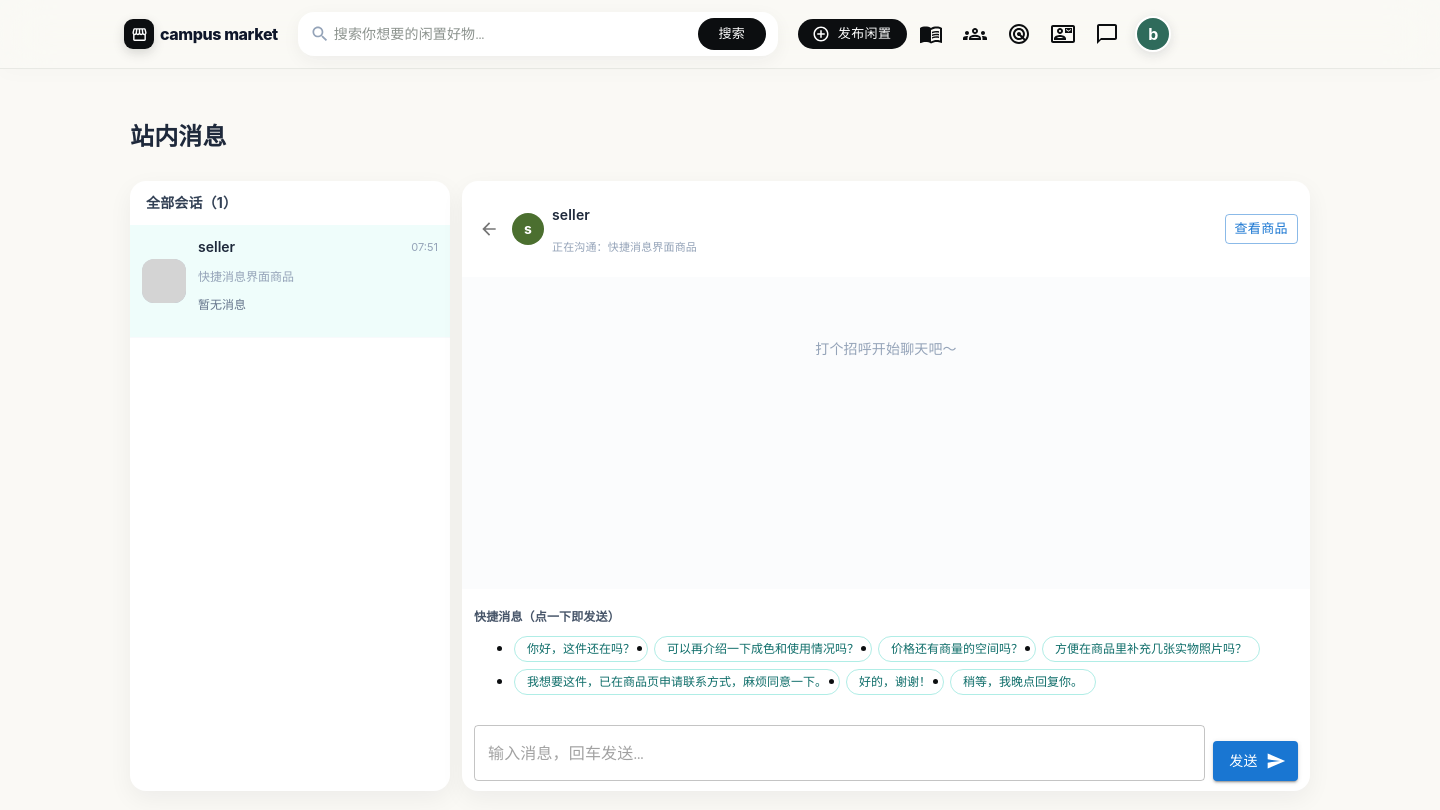
私信快捷消息 › 服务端开放文字时：输入框出现、说明不再显示；文字消息只提交 { content }
The width and height of the screenshot is (1440, 810).
Type "周六下午方便吗？" into the text box labelled "输入消息" at point(840, 753), box [488,742,1191,765]
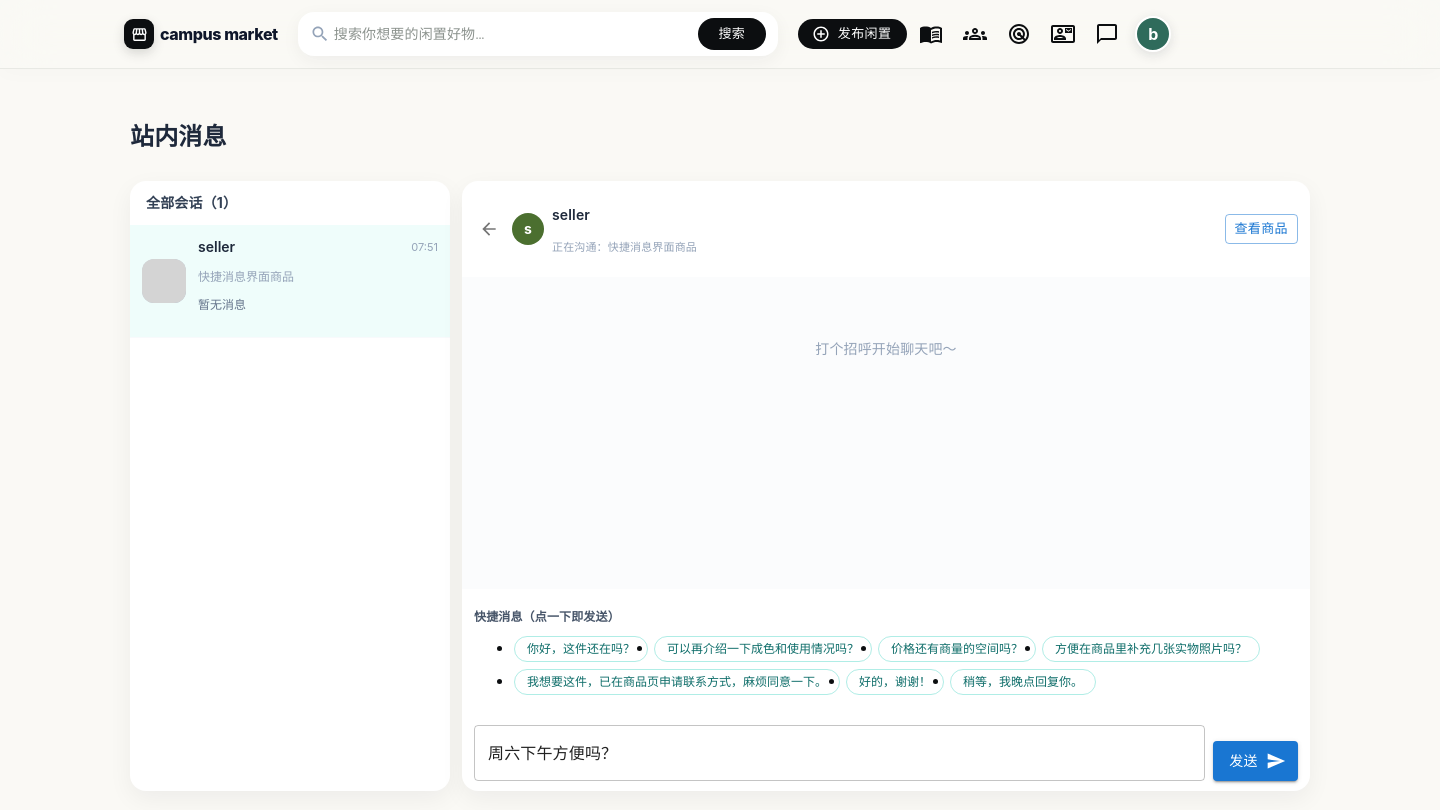
Click the button "发送" at point(1256, 761), box [1213,741,1298,781]
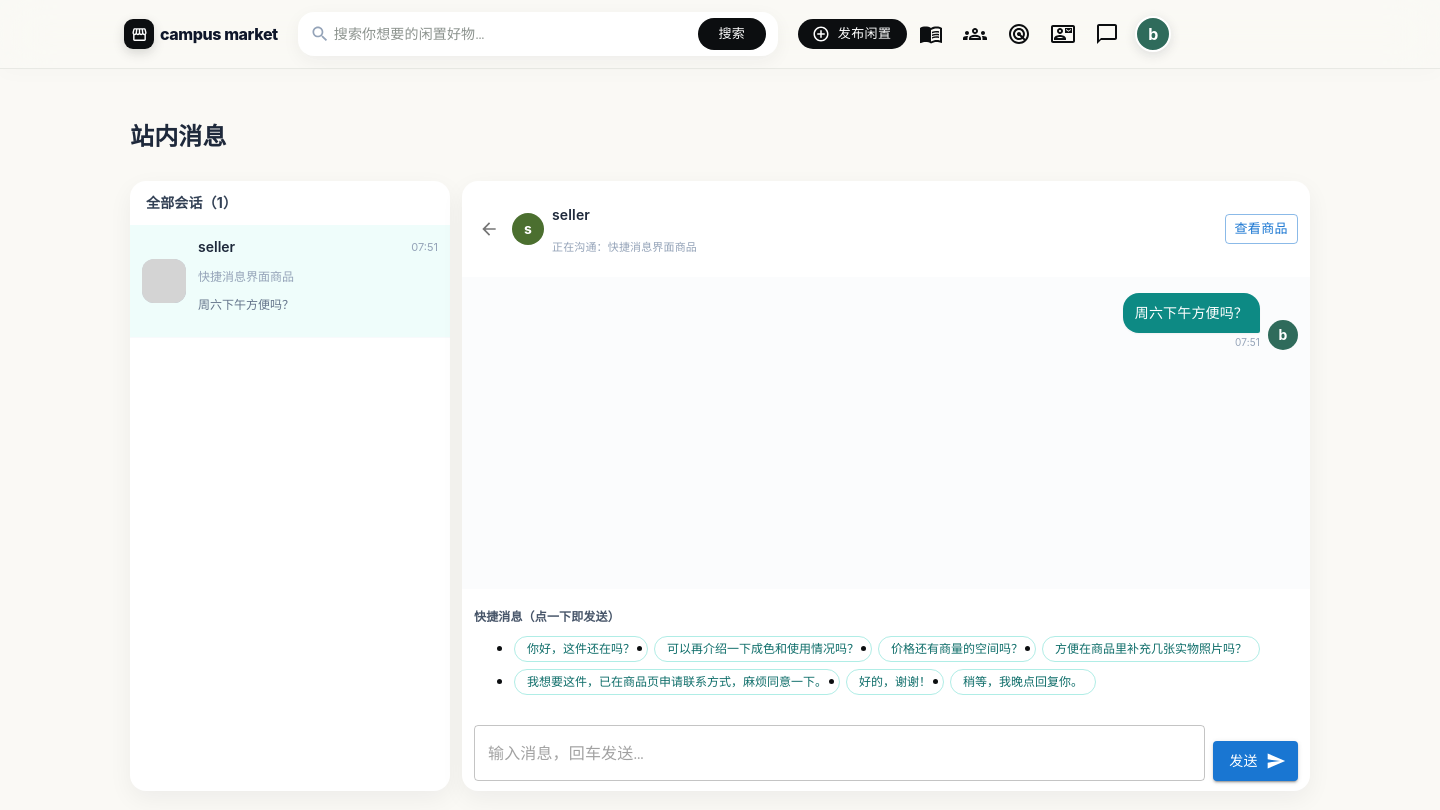
Now the 2nd text "周六下午方便吗？" is shown, box [1123,293,1260,333]
